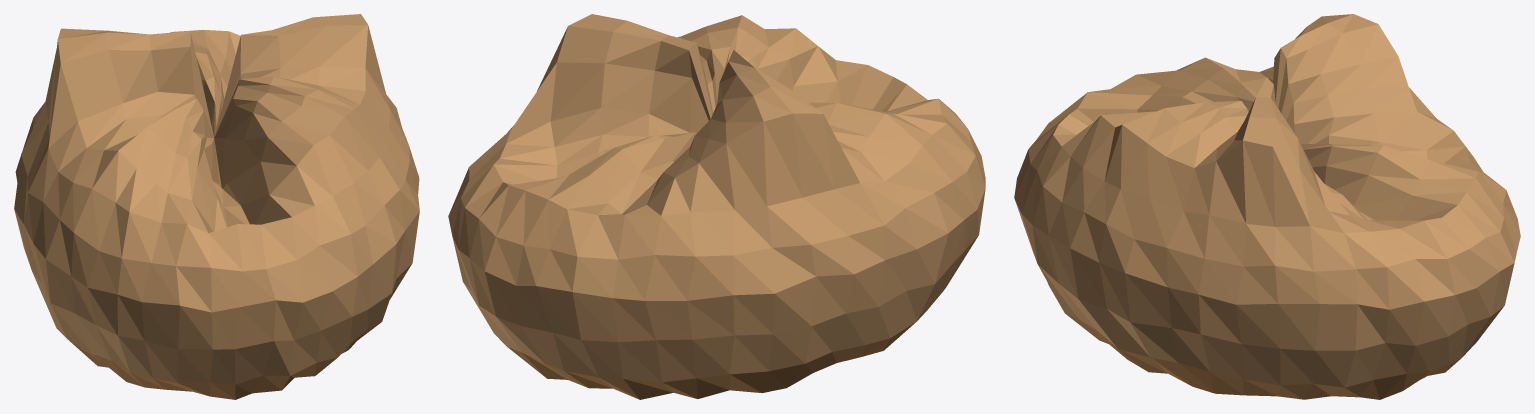
The model's file is walnut.glb.
The picture shows the model from 3 angles, left to right: view 1: azimuth 30°, elevation 25°; view 2: azimuth 150°, elevation 25°; view 3: azimuth 270°, elevation 25°; orthographic projection. The views are drawn at different scales.
Size of the model in its own units: 0.9829 by 0.6842 by 1.13.
